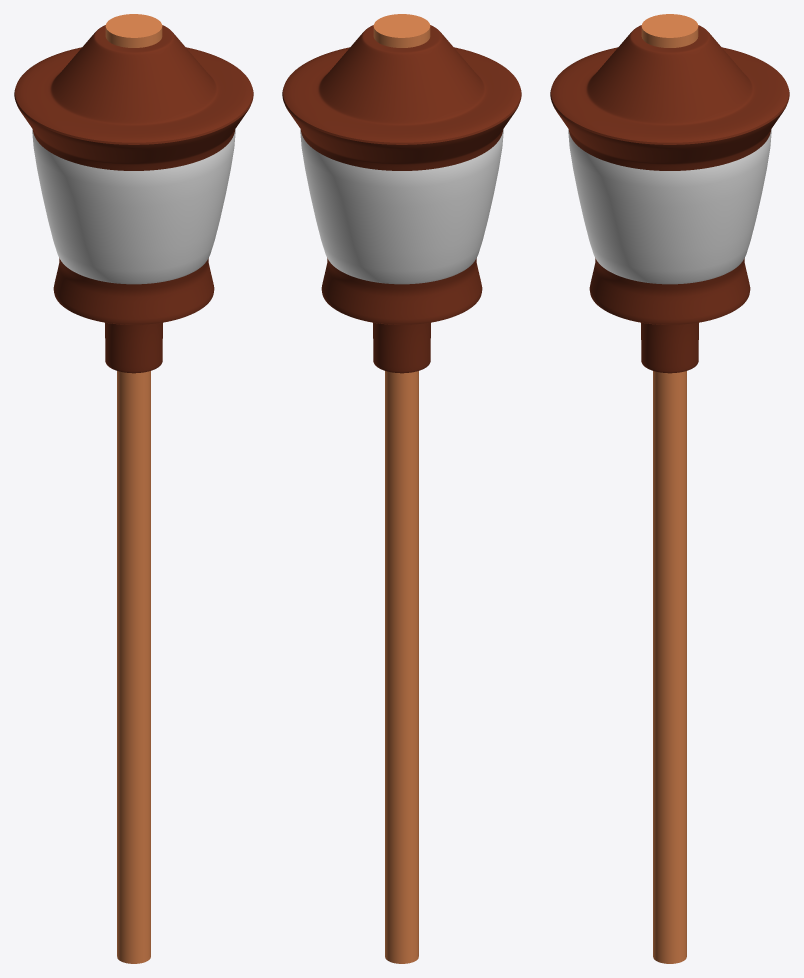
The model's file is Lantern_Kikl.fbx.
The picture shows the model from 3 angles, left to right: view 1: azimuth 30°, elevation 25°; view 2: azimuth 150°, elevation 25°; view 3: azimuth 270°, elevation 25°; orthographic projection.
Parts seen in each view (by area): view 1: Cylinder.013, Cylinder.011, Cylinder.012, Cylinder.014; view 2: Cylinder.013, Cylinder.011, Cylinder.012, Cylinder.014; view 3: Cylinder.013, Cylinder.011, Cylinder.012, Cylinder.014.
Part boxes in pixels (x1,y1,x2,y2): Cylinder.013: (14, 25, 253, 373); Cylinder.011: (117, 371, 150, 963); Cylinder.012: (32, 130, 235, 284); Cylinder.014: (105, 14, 162, 47); Cylinder.013: (282, 25, 521, 373); Cylinder.011: (385, 371, 418, 963); Cylinder.012: (300, 130, 503, 284); Cylinder.014: (373, 14, 430, 47); Cylinder.013: (550, 25, 789, 373); Cylinder.011: (653, 371, 686, 963); Cylinder.012: (568, 130, 771, 284); Cylinder.014: (641, 14, 698, 47).
Size of the model in its own units: 159 by 685 by 159.
